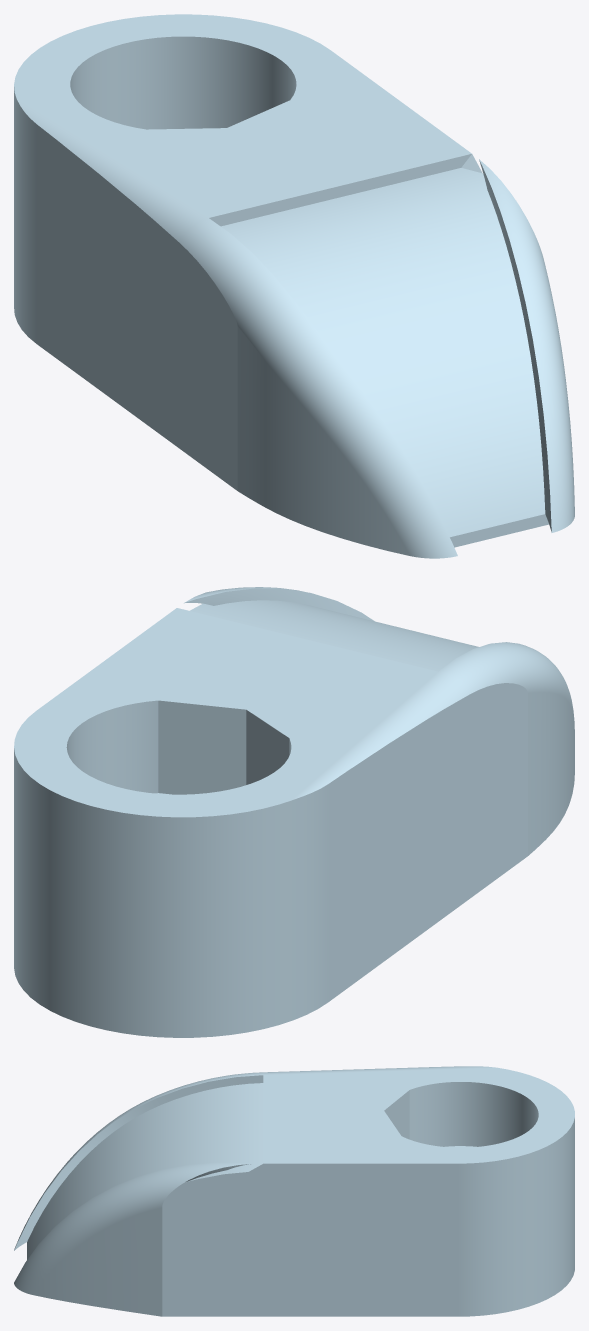
Rendered from upper.gltf.
3 renders of one model, top to bottom at view 1: azimuth 30°, elevation 25°; view 2: azimuth 150°, elevation 25°; view 3: azimuth 270°, elevation 25°, orthographic. The views are drawn at different scales.
Visible parts, largest first — view 1: Part 1; view 2: Part 1; view 3: Part 1.
Part boxes in pixels (box(x1,y1,x2,y2)): Part 1: box(14, 14, 574, 558); Part 1: box(14, 587, 574, 1037); Part 1: box(14, 1066, 574, 1316).
Bounding box in the file's own units: 0.054 × 0.039 × 0.1295.
